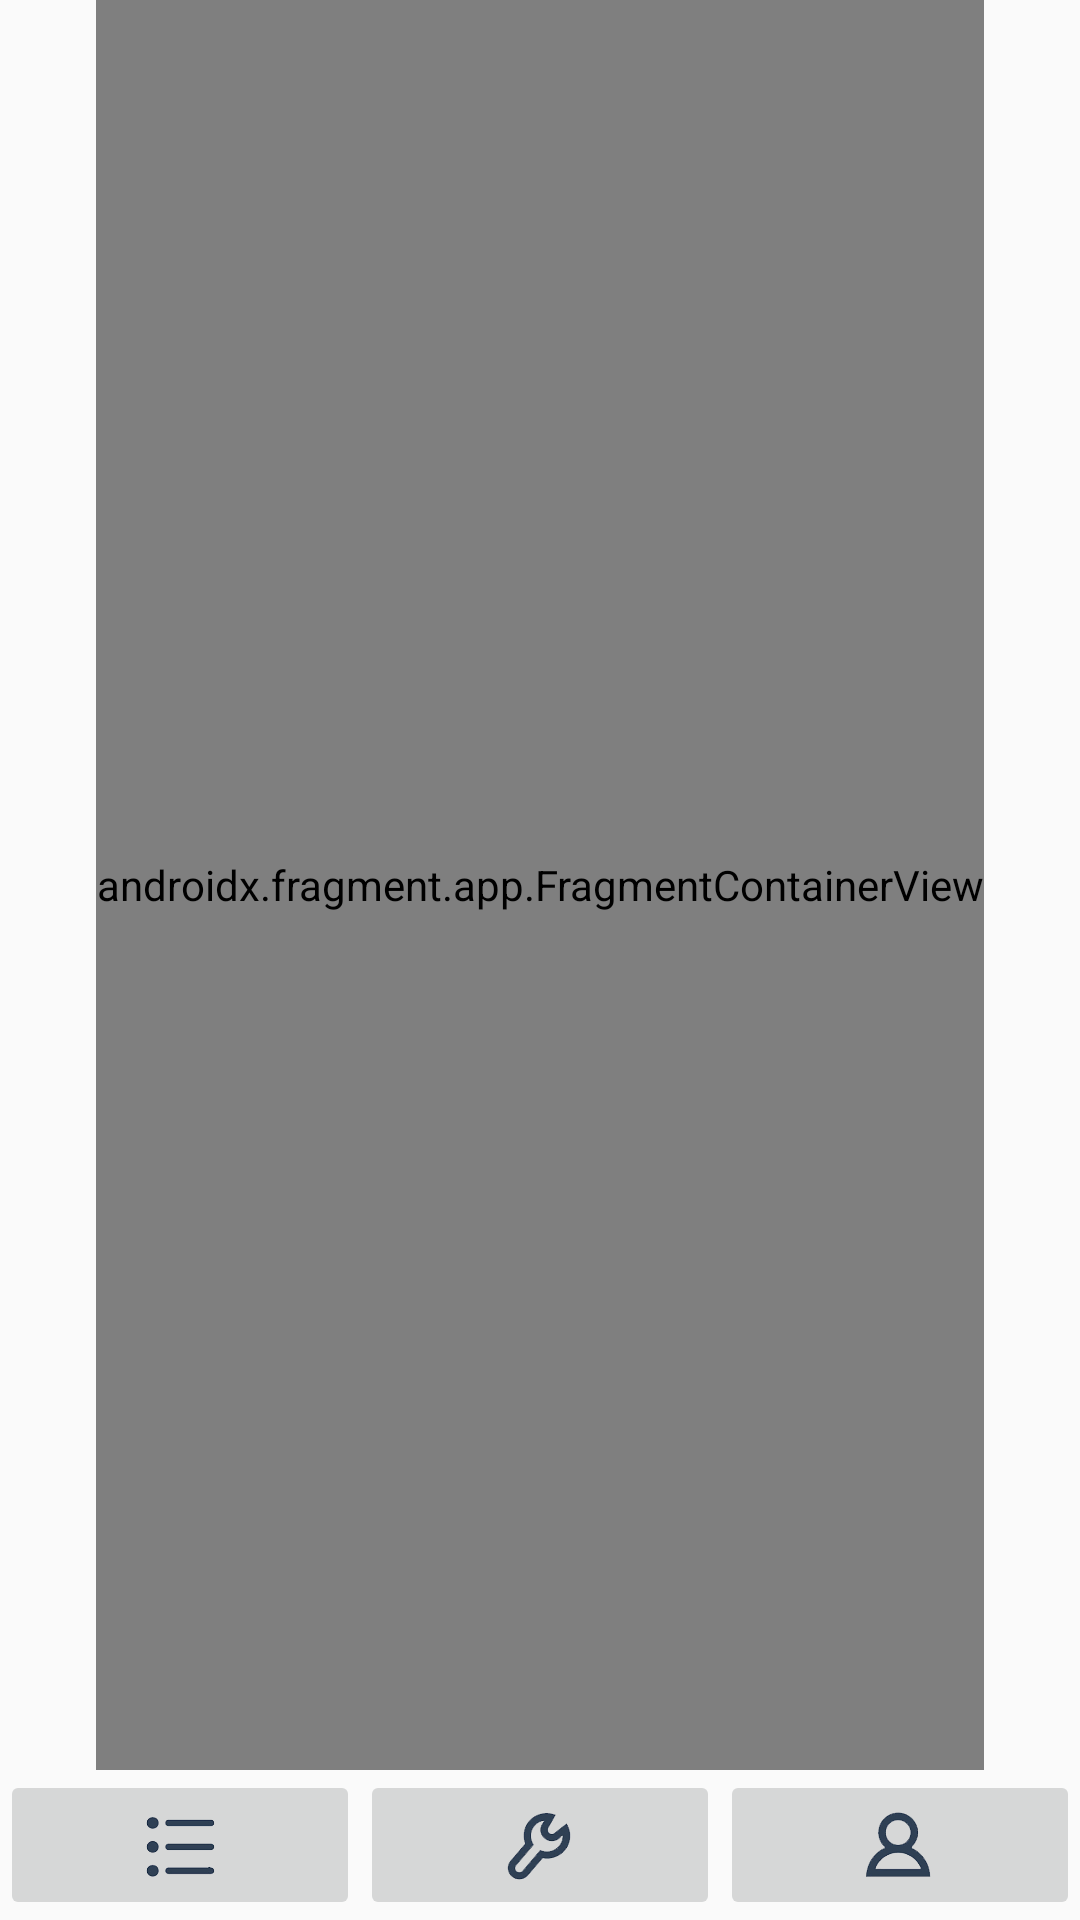

Screen size 1080px x 1920px. Icon name, then its box in pixels as (x1, y1, x2, y2):
control: (372, 1788, 708, 1902)
list: (12, 1788, 348, 1902)
user: (732, 1788, 1068, 1902)
